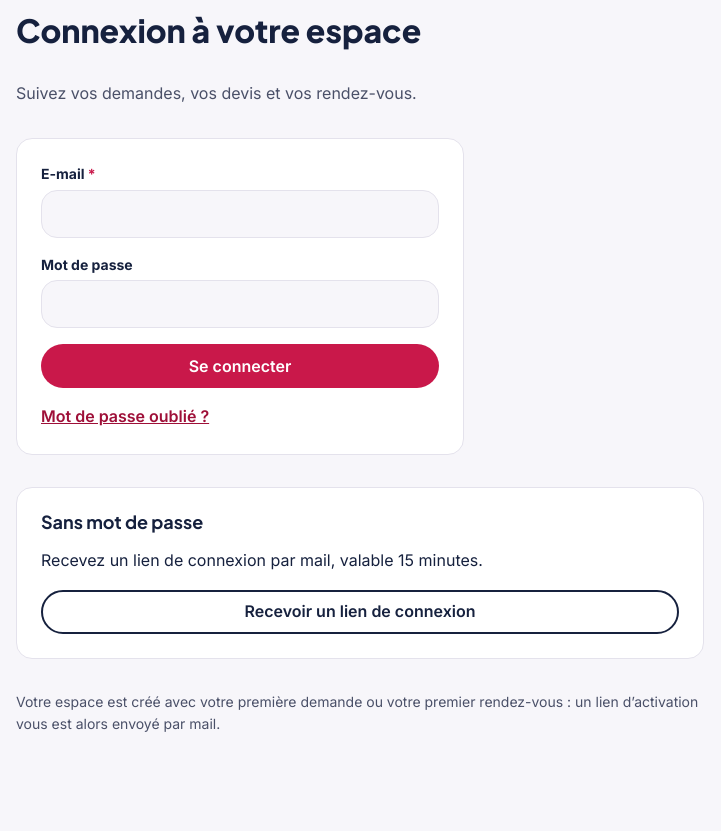
Connexion › demande de patienter après trop d’essais
Type "marie@exemple.fr" into the field labelled "E-mail *".
click(240, 214); type("marie@exemple.fr")  # box [41,190,439,238]
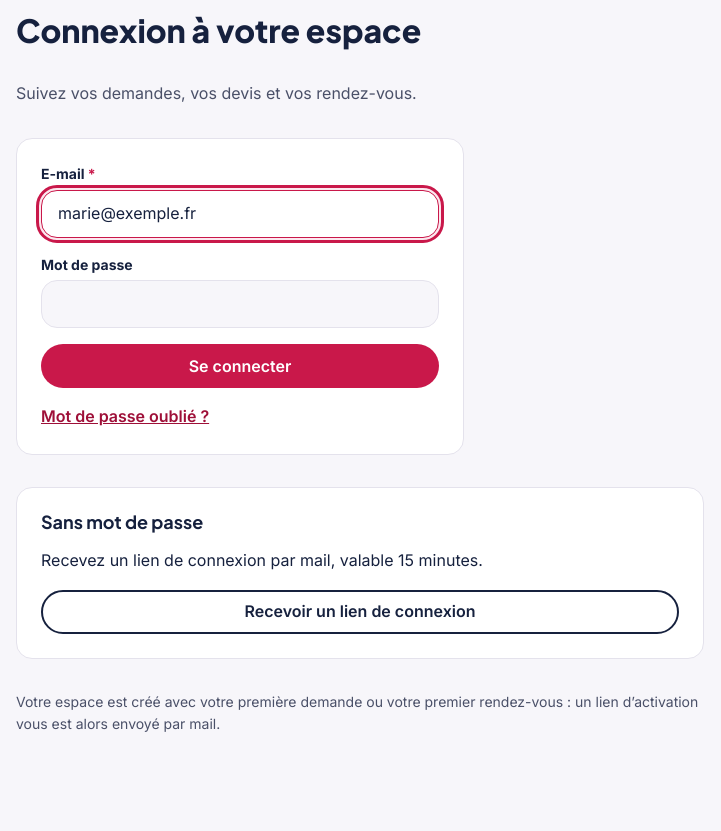
Type "x" into the password field labelled "Mot de passe".
click(240, 304); type("x")  # box [41,280,439,328]
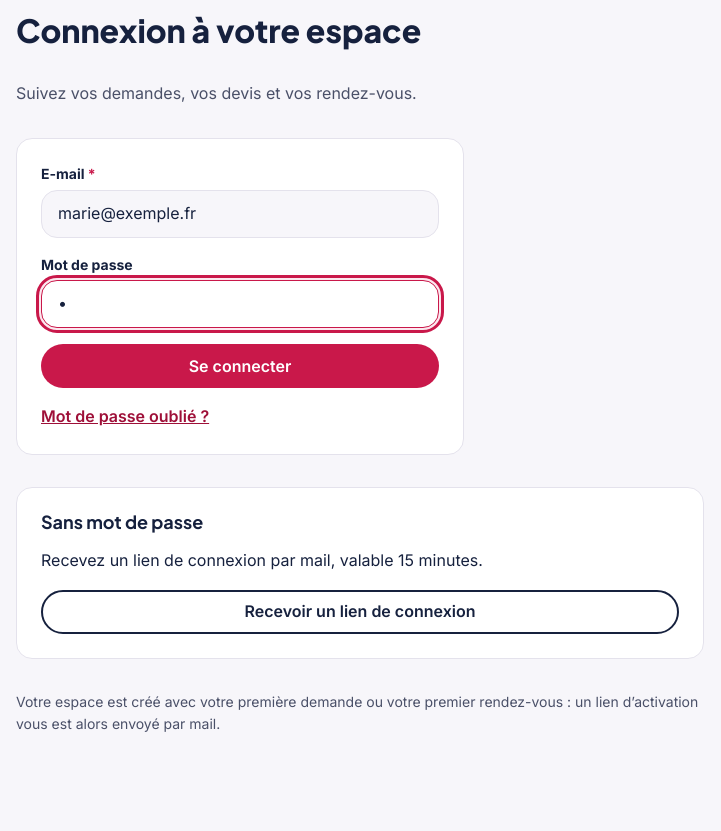
Click the button "Se connecter".
click(240, 366)  # box [41,344,439,388]
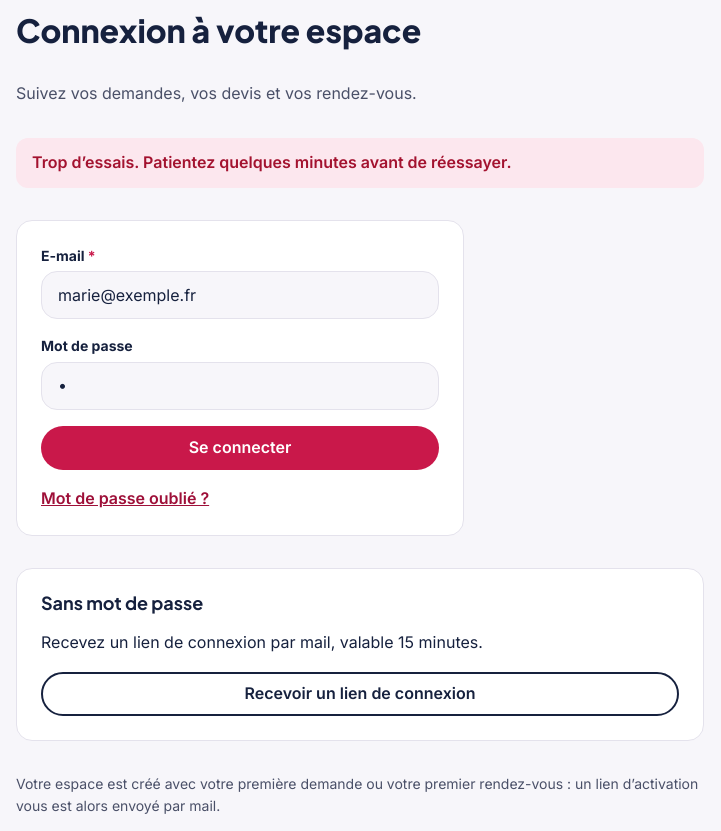
Expected: the message shows "Trop d’essais", [32,152,512,172]
